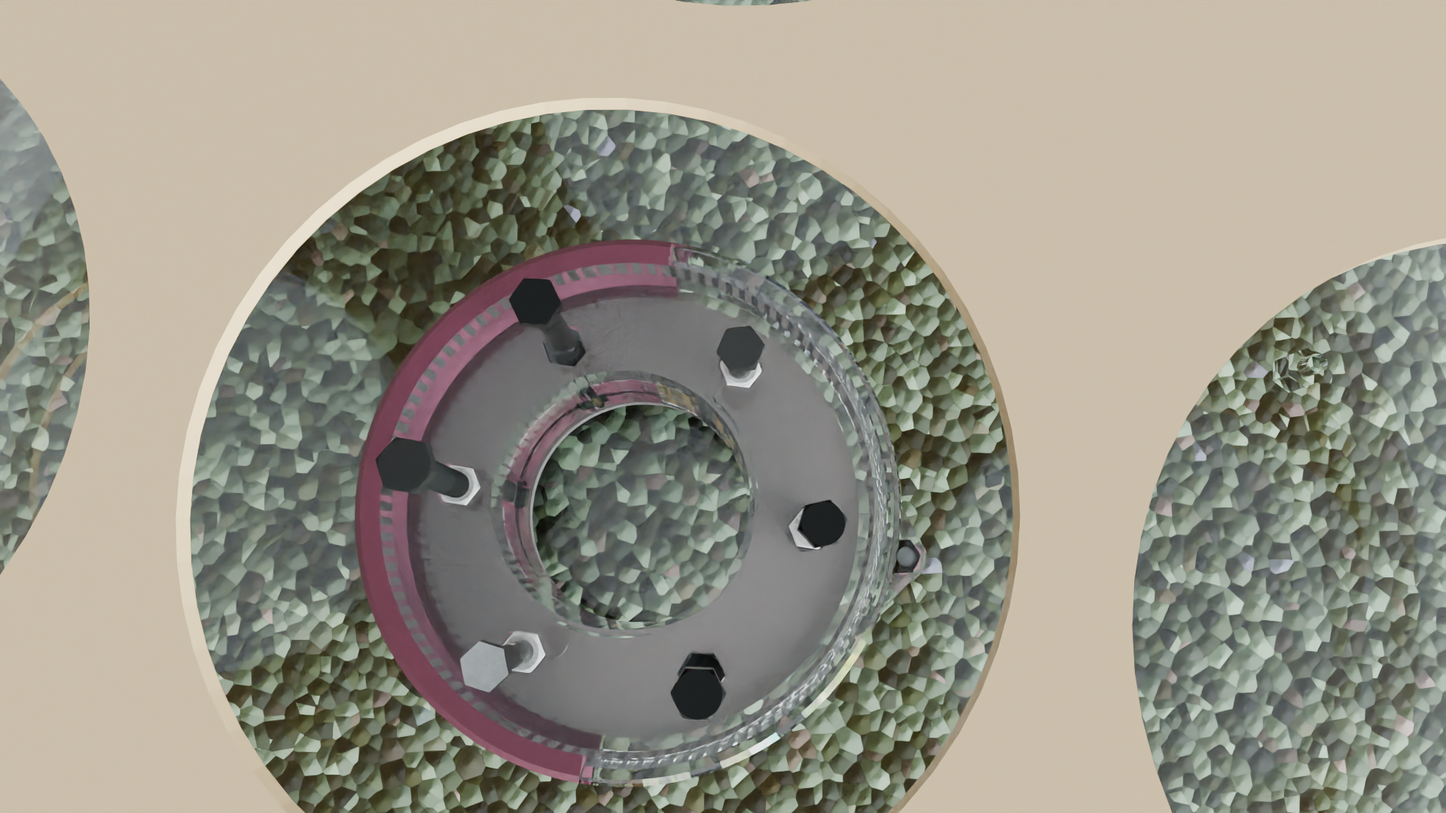bolt: (375, 437, 434, 493), (670, 668, 726, 720), (460, 641, 508, 693), (798, 500, 847, 548), (509, 279, 561, 324), (717, 326, 765, 370)
